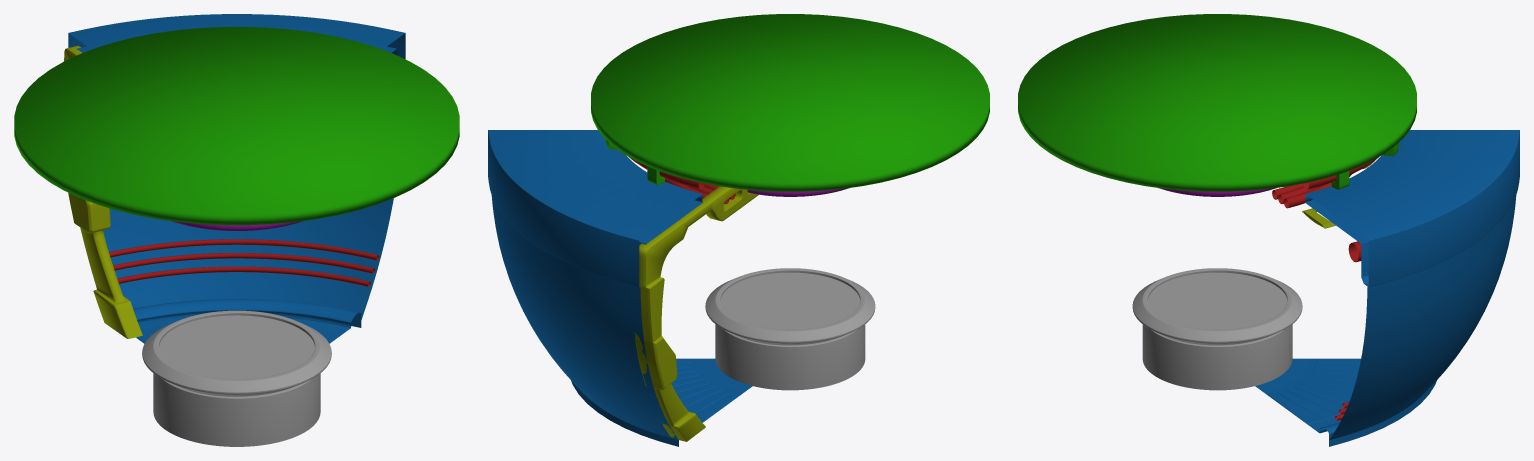
Rendered from Room_low.fbx.
3 views of the same model, side by side, from view 1: azimuth 30°, elevation 25°; view 2: azimuth 150°, elevation 25°; view 3: azimuth 270°, elevation 25° (orthographic). The views are drawn at different scales.
Parts seen in each view (by area): view 1: Ceiling_low, Table_low, Glass_low, Wall_low, Railings_low, Floor_low, Kolwna_low, CeilingLight_low; view 2: Ceiling_low, Wall_low, Table_low, Glass_low, Kolwna_low, Floor_low; view 3: Ceiling_low, Wall_low, Glass_low, Table_low, Floor_low, RailInner_low, CeilingLight_low.
Boxes of the visible parts, x1,y1,x2,y2 form: Ceiling_low: (14,27,459,225); Table_low: (142,310,331,446); Glass_low: (103,198,393,320); Wall_low: (68,14,405,59); Railings_low: (109,239,379,286); Floor_low: (133,299,361,343); Kolwna_low: (64,45,142,338); CeilingLight_low: (171,221,302,230); Ceiling_low: (591,14,989,191); Wall_low: (488,130,702,287); Table_low: (705,268,875,390); Glass_low: (491,195,678,439); Kolwna_low: (634,186,758,441); Floor_low: (571,358,752,446); Ceiling_low: (1018,14,1416,191); Wall_low: (1305,130,1519,287); Glass_low: (1329,195,1516,439); Table_low: (1132,268,1302,390); Floor_low: (1255,358,1436,446); RailInner_low: (1272,174,1351,208); CeilingLight_low: (1158,188,1276,196).
Bounding box in the file's own units: 923 × 590 × 1004.
